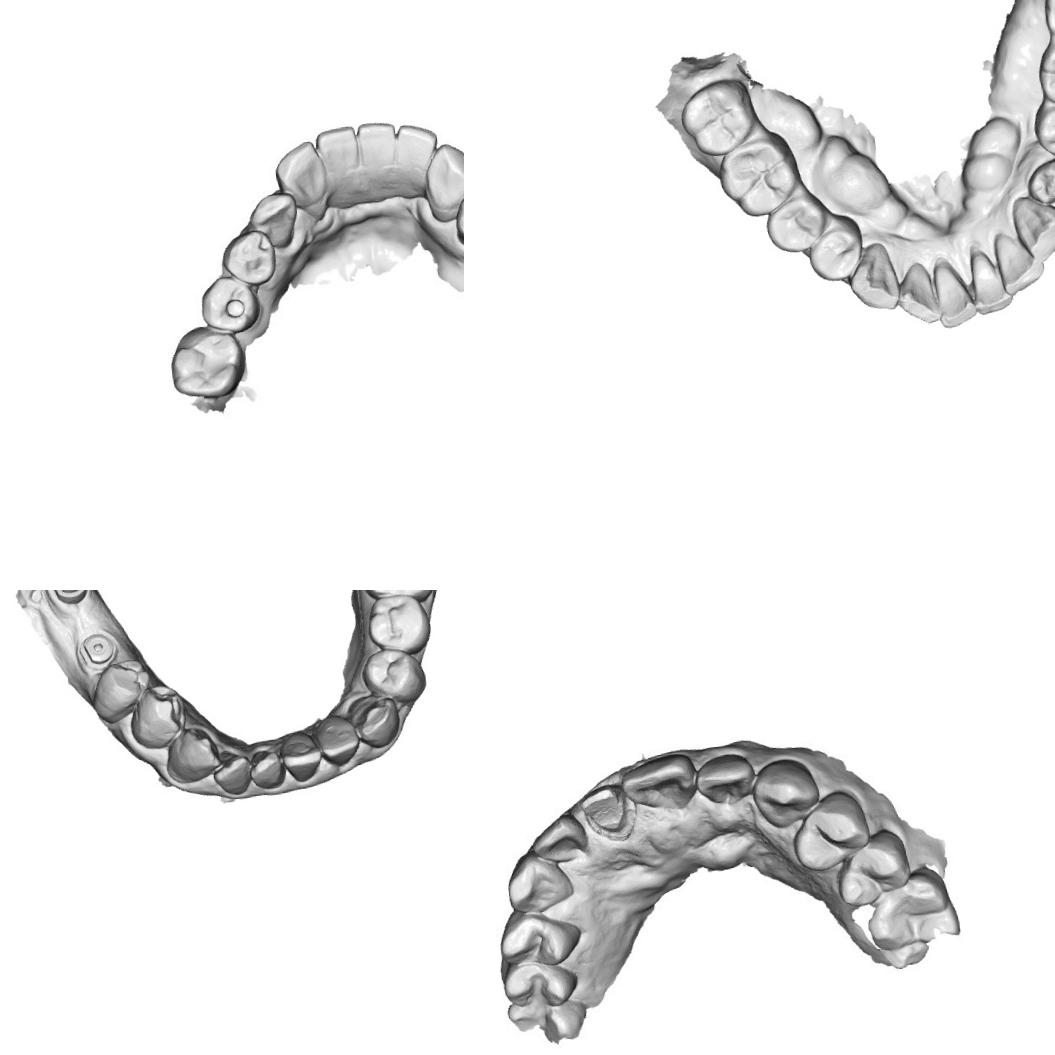canine: (752, 754, 823, 830), (505, 848, 574, 916), (844, 240, 903, 315), (419, 138, 464, 224), (161, 727, 222, 788), (246, 189, 301, 252), (1008, 189, 1055, 262), (350, 695, 404, 752)
crown: (576, 778, 636, 842)
implant: (72, 630, 122, 672)
implant_minus: (41, 590, 94, 608)
incisor: (268, 138, 332, 216), (623, 752, 700, 812), (929, 253, 980, 332), (696, 744, 756, 811), (992, 226, 1048, 296), (968, 244, 1016, 318), (894, 257, 944, 328), (312, 125, 365, 190), (531, 813, 592, 868), (353, 118, 402, 183), (310, 712, 363, 770), (390, 119, 441, 178), (276, 728, 326, 786), (244, 745, 290, 795), (208, 754, 256, 801)
molar: (868, 869, 963, 960), (714, 129, 805, 221), (675, 75, 762, 160), (165, 320, 249, 402), (1035, 34, 1055, 115)
premolar: (787, 786, 870, 878), (834, 829, 914, 907), (500, 900, 582, 974), (500, 949, 584, 1013), (123, 681, 192, 754), (362, 590, 436, 658), (88, 653, 157, 724), (802, 213, 867, 285), (762, 190, 832, 256), (196, 271, 262, 336), (359, 644, 429, 704), (222, 228, 280, 288), (1025, 153, 1055, 214), (1031, 98, 1055, 162), (449, 183, 464, 251)
